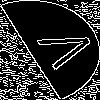V: (25, 25, 99, 75)
